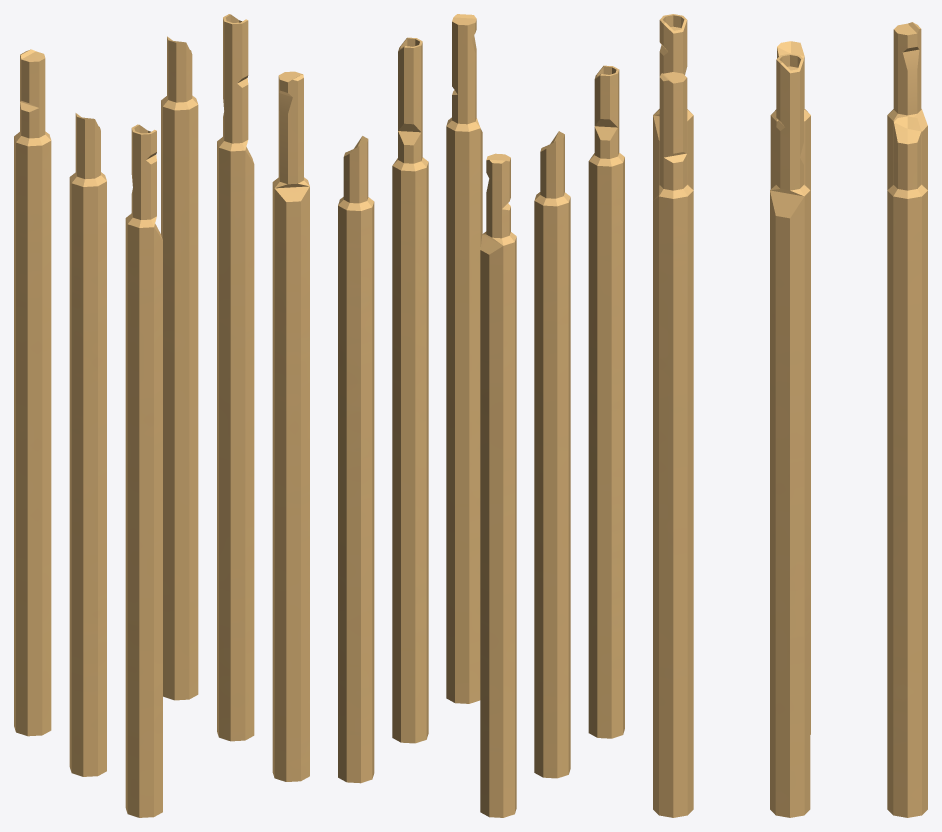
Rendered from Pillar-Old.fbx.
3 views of the same model, side by side, from view 1: azimuth 30°, elevation 25°; view 2: azimuth 150°, elevation 25°; view 3: azimuth 270°, elevation 25° (orthographic). The views are drawn at different scales.
Parts seen in each view (by area): view 1: Pillar-Old; view 2: Pillar-Old; view 3: Pillar-Old.
Part boxes in pixels (box(x1,y1,x2,y2)): Pillar-Old: box(14, 14, 309, 817); Pillar-Old: box(338, 14, 624, 817); Pillar-Old: box(653, 14, 927, 817).
Bounding box in the file's own units: 3024 × 11458 × 3803.
